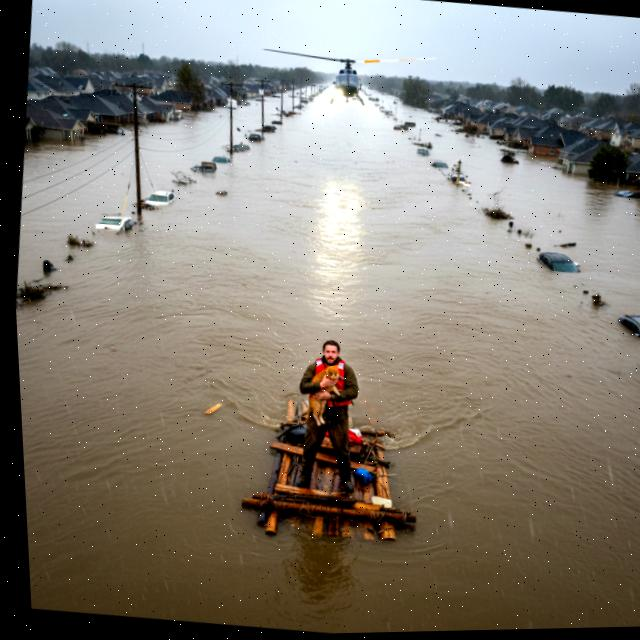cat: (300, 352, 348, 430)
civilian: (279, 328, 388, 508)
